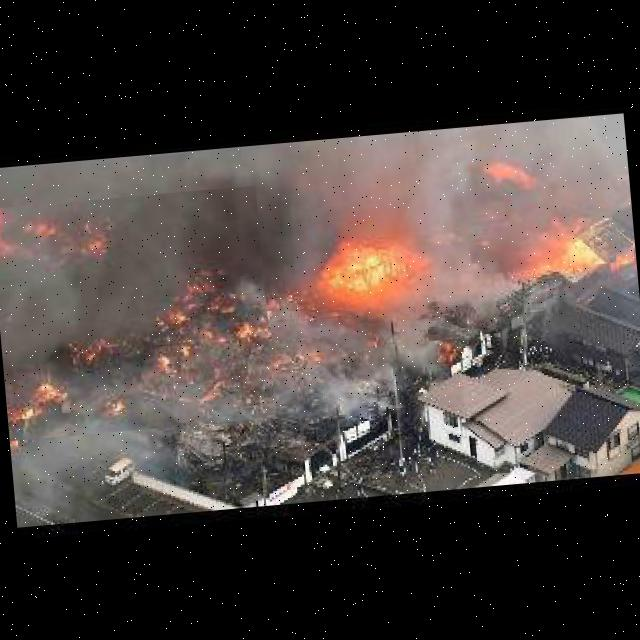fire: (0, 185, 275, 440), (461, 143, 616, 274), (290, 208, 440, 329)
